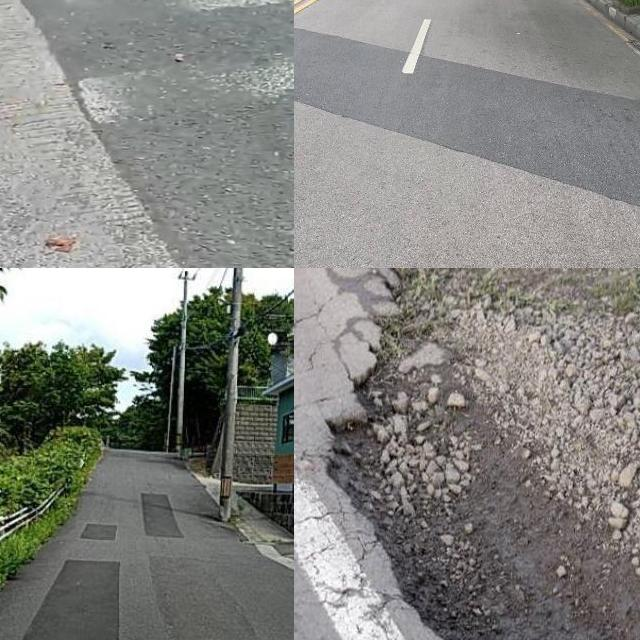Pinggir: (326, 268, 640, 640)
Sambungan: (294, 26, 640, 206), (0, 0, 185, 268), (144, 492, 181, 536), (86, 523, 118, 541)
